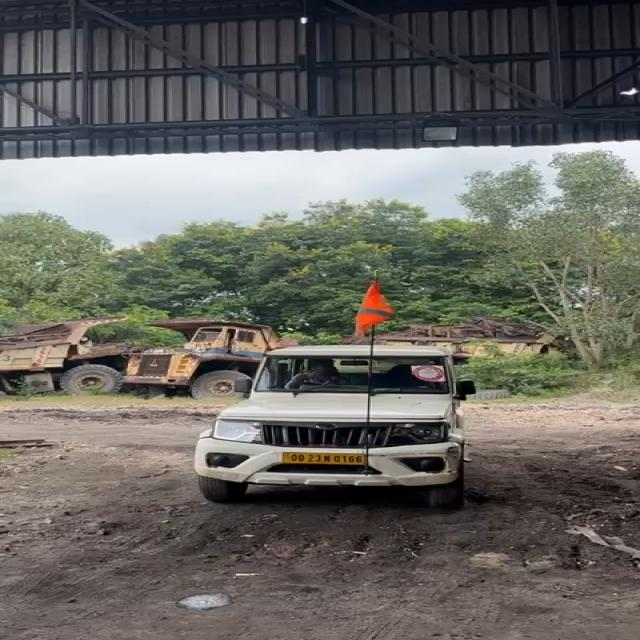light_vehicle: (187, 348, 464, 494)
